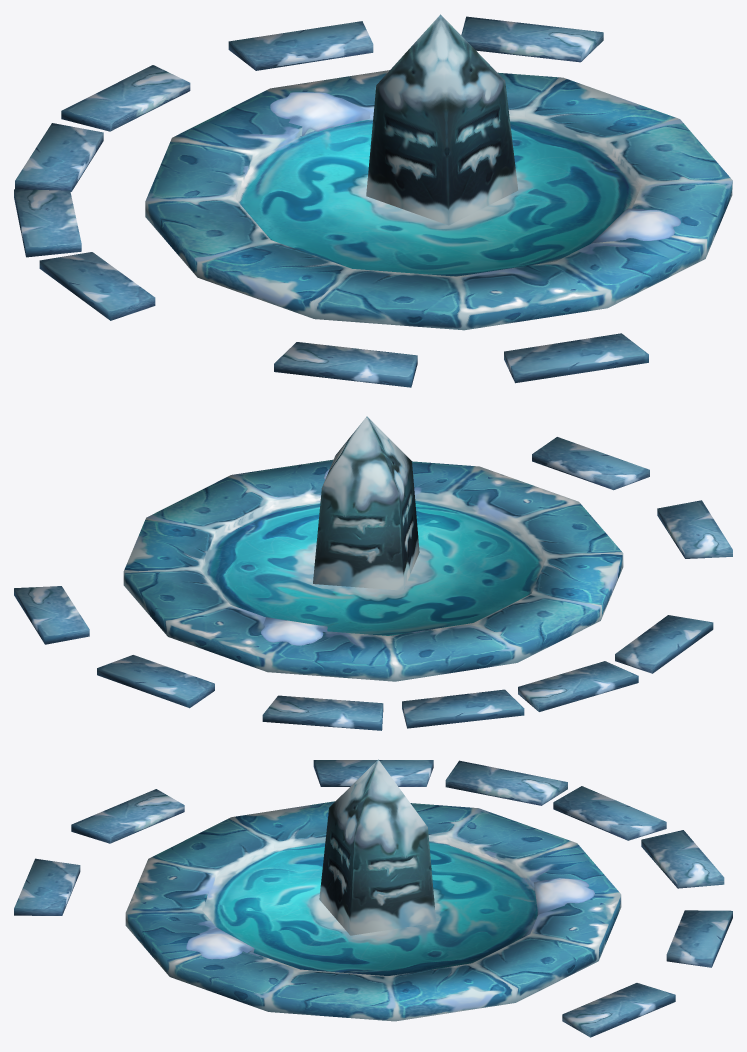
Rendered from ShiBei01.FBX.
3 views of the same model, one above another, from view 1: azimuth 30°, elevation 25°; view 2: azimuth 150°, elevation 25°; view 3: azimuth 270°, elevation 25° (orthographic). The views are drawn at different scales.
Visible parts, largest first — view 1: ShiBei01; view 2: ShiBei01; view 3: ShiBei01.
Part boxes in pixels (<box>): ShiBei01: <box>14,14,732,387</box>; ShiBei01: <box>14,416,732,730</box>; ShiBei01: <box>14,759,732,1037</box>.
Bounding box in the file's own units: 469 × 129 × 527.
